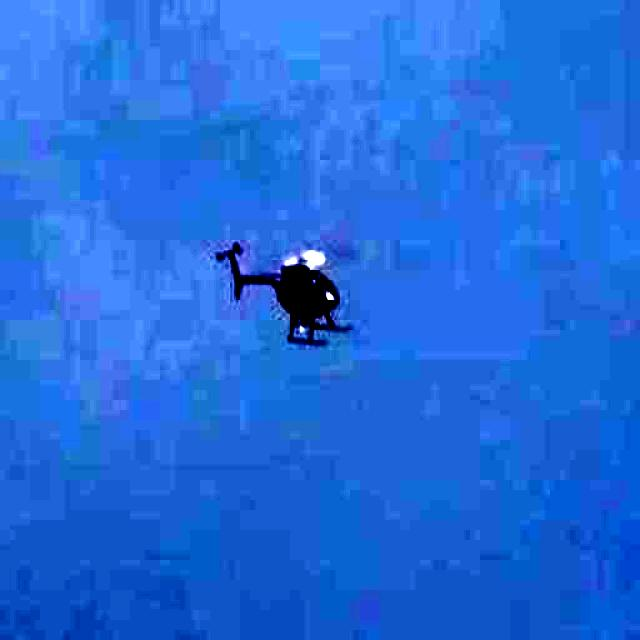drone: (175, 182, 385, 370)
